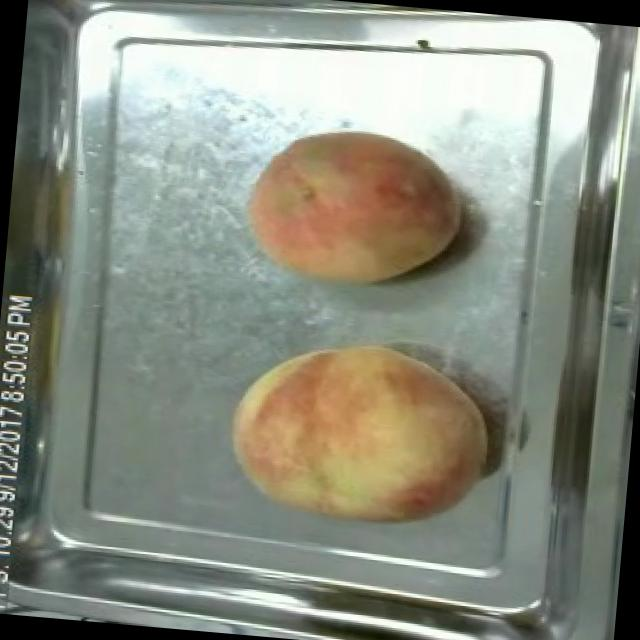Fruit: (218, 321, 500, 545), (234, 111, 474, 306)
